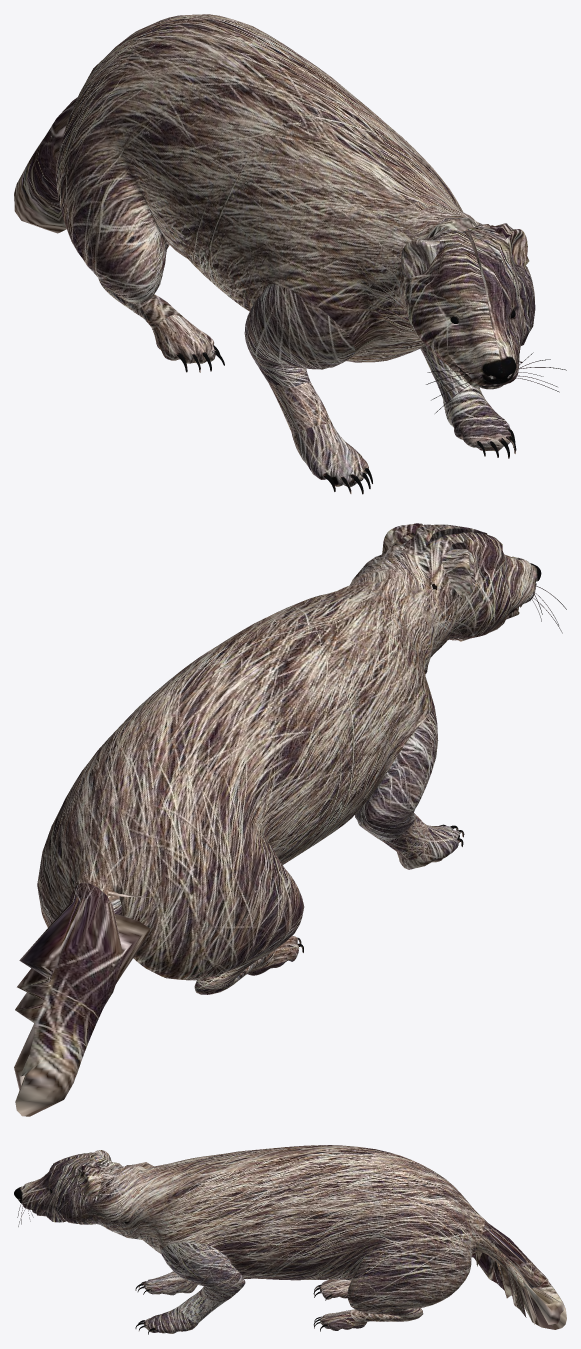
The model's file is marmotaloca.fbx.
The picture shows the model from 3 angles, top to bottom: view 1: azimuth 30°, elevation 25°; view 2: azimuth 150°, elevation 25°; view 3: azimuth 270°, elevation 25°; orthographic projection. The views are drawn at different scales.
Visible parts, largest first — view 1: badger.002; view 2: badger.002; view 3: badger.002.
Boxes of the visible parts, x1,y1,x2,y2 form: badger.002: (14,14,566,494); badger.002: (14,523,566,1116); badger.002: (14,1145,566,1334).
Bounding box in the file's own units: 4.67 × 6.45 × 17.77.
1 material, 1 textured.
